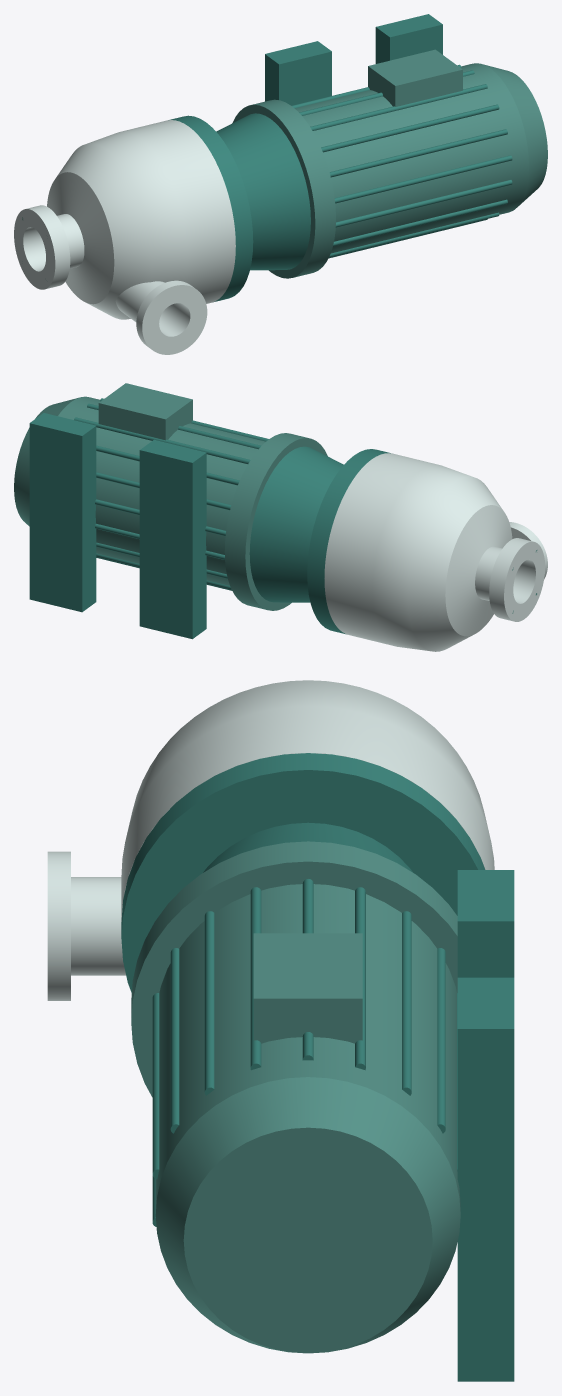
3 renders of one model, top to bottom at view 1: azimuth 30°, elevation 25°; view 2: azimuth 150°, elevation 25°; view 3: azimuth 270°, elevation 25°, orthographic. The views are drawn at different scales.
Visible parts, largest first — view 1: 泵体_圆弧壳与轴向进液口, 电机_带筋机壳, 连接座_短连接段, 支脚_电机底脚, 电机_连接法兰, 电机_接线盒, 接口_朝上出液法兰, 连接座_泵壳连接环, 电机_圆弧尾罩, 接口_偏置竖向出液管, 电机_散热筋04, 电机_散热筋05 (+6 smaller); view 2: 泵体_圆弧壳与轴向进液口, 支脚_电机底脚, 电机_带筋机壳, 连接座_短连接段, 电机_连接法兰, 电机_接线盒, 连接座_泵壳连接环, 电机_圆弧尾罩, 电机_散热筋18, 接口_朝上出液法兰, 电机_散热筋17, 电机_散热筋01 (+4 smaller); view 3: 电机_圆弧尾罩, 电机_带筋机壳, 支脚_电机底脚, 连接座_泵壳连接环, 泵体_圆弧壳与轴向进液口, 电机_连接法兰, 电机_接线盒, 接口_偏置竖向出液管, 接口_朝上出液法兰, 连接座_短连接段, 电机_散热筋03, 电机_散热筋17 (+6 smaller).
Boxes of the visible parts, box(x1,y1,x2,y2) form: 泵体_圆弧壳与轴向进液口: box(14, 120, 235, 319); 电机_带筋机壳: box(295, 63, 528, 253); 连接座_短连接段: box(216, 113, 310, 270); 支脚_电机底脚: box(265, 14, 442, 105); 电机_连接法兰: box(232, 99, 335, 278); 电机_接线盒: box(368, 49, 462, 106); 接口_朝上出液法兰: box(136, 280, 207, 354); 连接座_泵壳连接环: box(168, 115, 253, 302); 电机_圆弧尾罩: box(483, 64, 547, 205); 接口_偏置竖向出液管: box(115, 281, 184, 332); 电机_散热筋04: box(329, 129, 507, 177); 电机_散热筋05: box(334, 155, 512, 203); 泵体_圆弧壳与轴向进液口: box(324, 453, 545, 651); 支脚_电机底脚: box(29, 413, 206, 639); 电机_带筋机壳: box(58, 396, 265, 585); 连接座_短连接段: box(249, 446, 343, 602); 电机_连接法兰: box(224, 433, 327, 610); 电机_接线盒: box(98, 383, 192, 440); 连接座_泵壳连接环: box(307, 449, 390, 634); 电机_圆弧尾罩: box(14, 397, 78, 526); 电机_散热筋18: box(74, 417, 250, 463); 接口_朝上出液法兰: box(509, 522, 547, 579); 电机_散热筋17: box(96, 445, 239, 485); 电机_散热筋01: box(87, 403, 261, 449); 电机_圆弧尾罩: box(155, 1077, 460, 1353); 电机_带筋机壳: box(155, 884, 460, 1213); 支脚_电机底脚: box(457, 870, 514, 1381); 连接座_泵壳连接环: box(121, 753, 485, 992); 泵体_圆弧壳与轴向进液口: box(121, 680, 494, 921); 电机_连接法兰: box(131, 841, 457, 1097); 电机_接线盒: box(253, 933, 362, 1043); 接口_偏置竖向出液管: box(71, 877, 125, 975); 接口_朝上出液法兰: box(47, 851, 70, 1000); 连接座_短连接段: box(203, 822, 413, 872); 电机_散热筋03: box(204, 911, 214, 1095); 电机_散热筋17: box(402, 911, 411, 1095).
Bounding box in the file's own units: 1.48 × 0.52 × 0.624.
